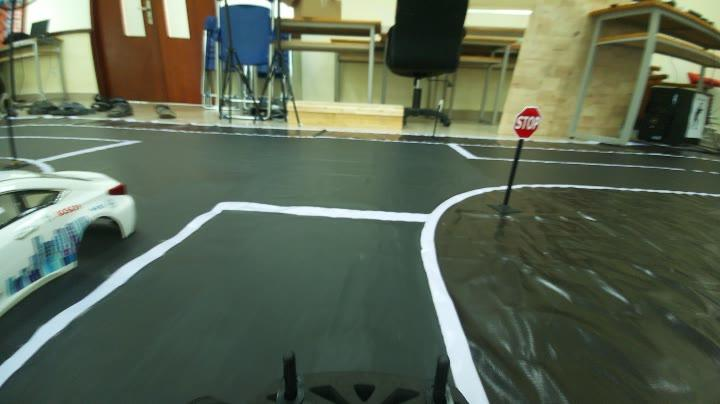car: (2, 155, 136, 273)
stop: (511, 102, 545, 142)
